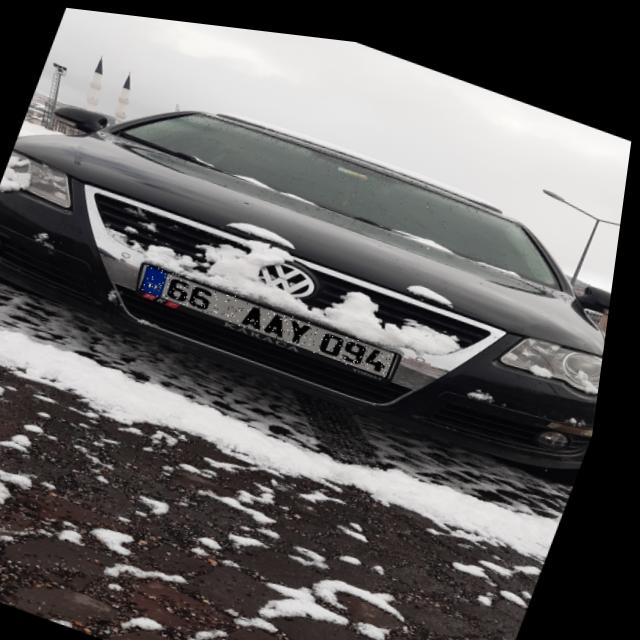license_plate: (138, 258, 411, 369)
